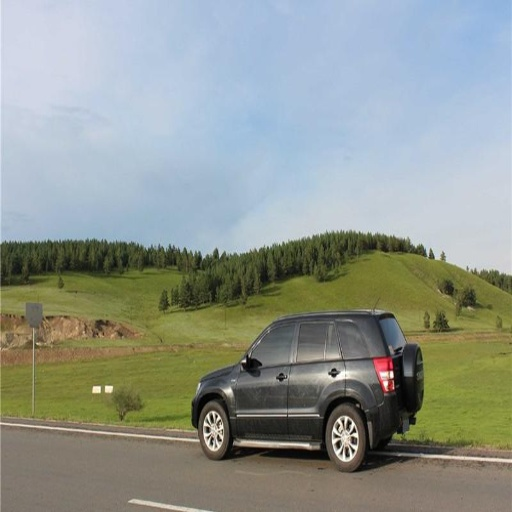back_left_door: (288, 318, 344, 438)
